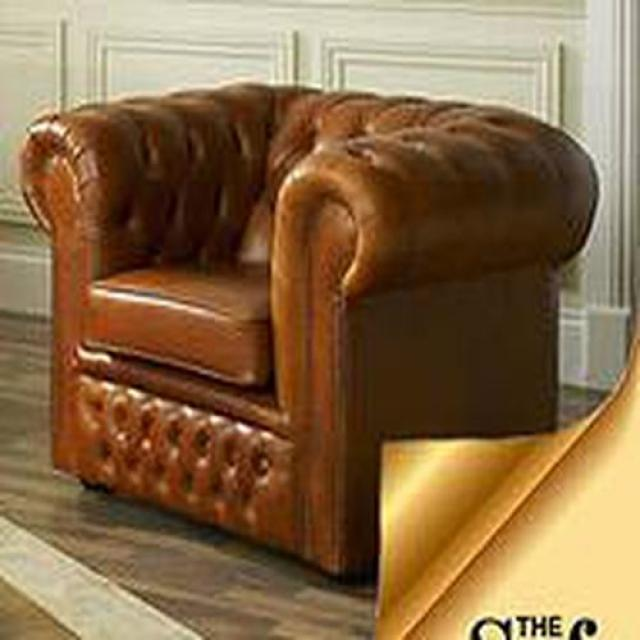sofa: (19, 82, 595, 588)
